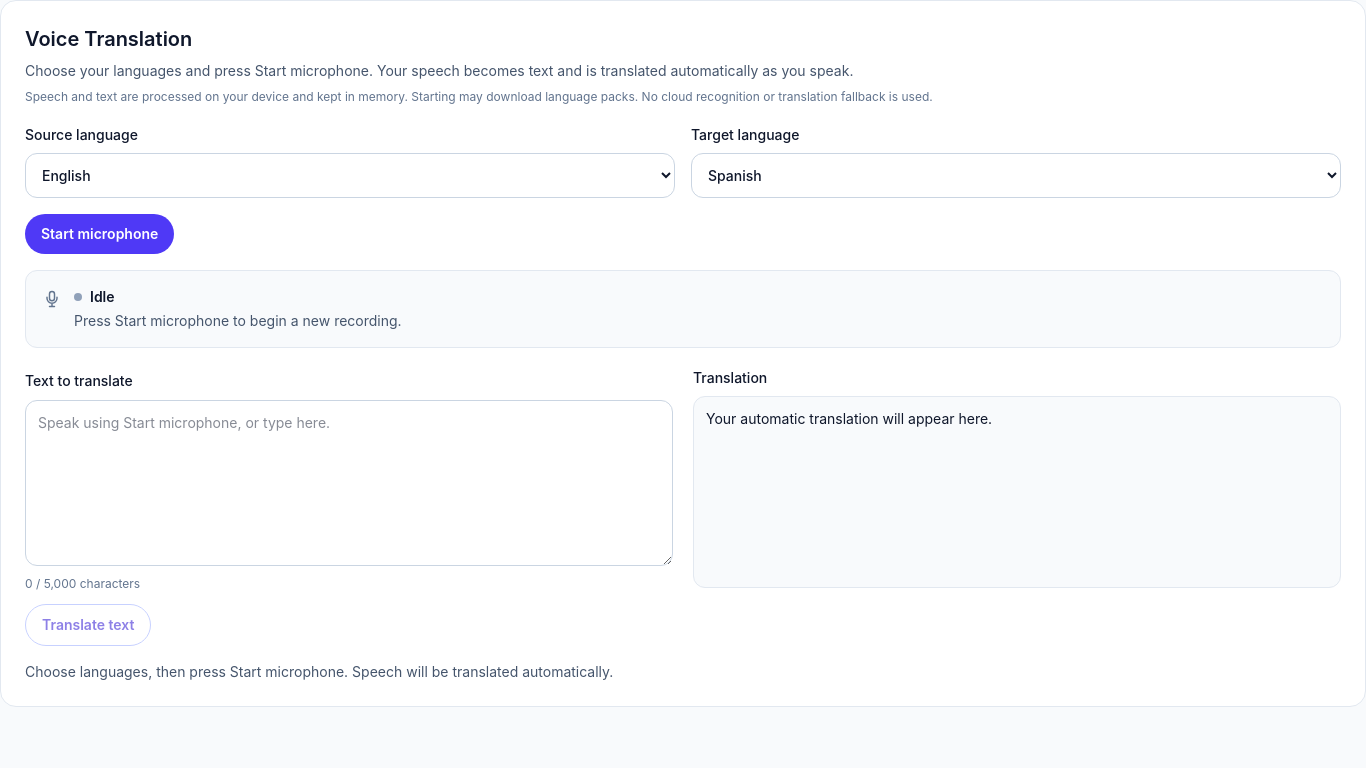
Test: clears old typed text and does not translate it when a recording captures no speech
Later steps or results of the test are not shown.
Type "Existing text" into the text box labelled "Text to translate" at (349, 483), box [25,400,673,566]
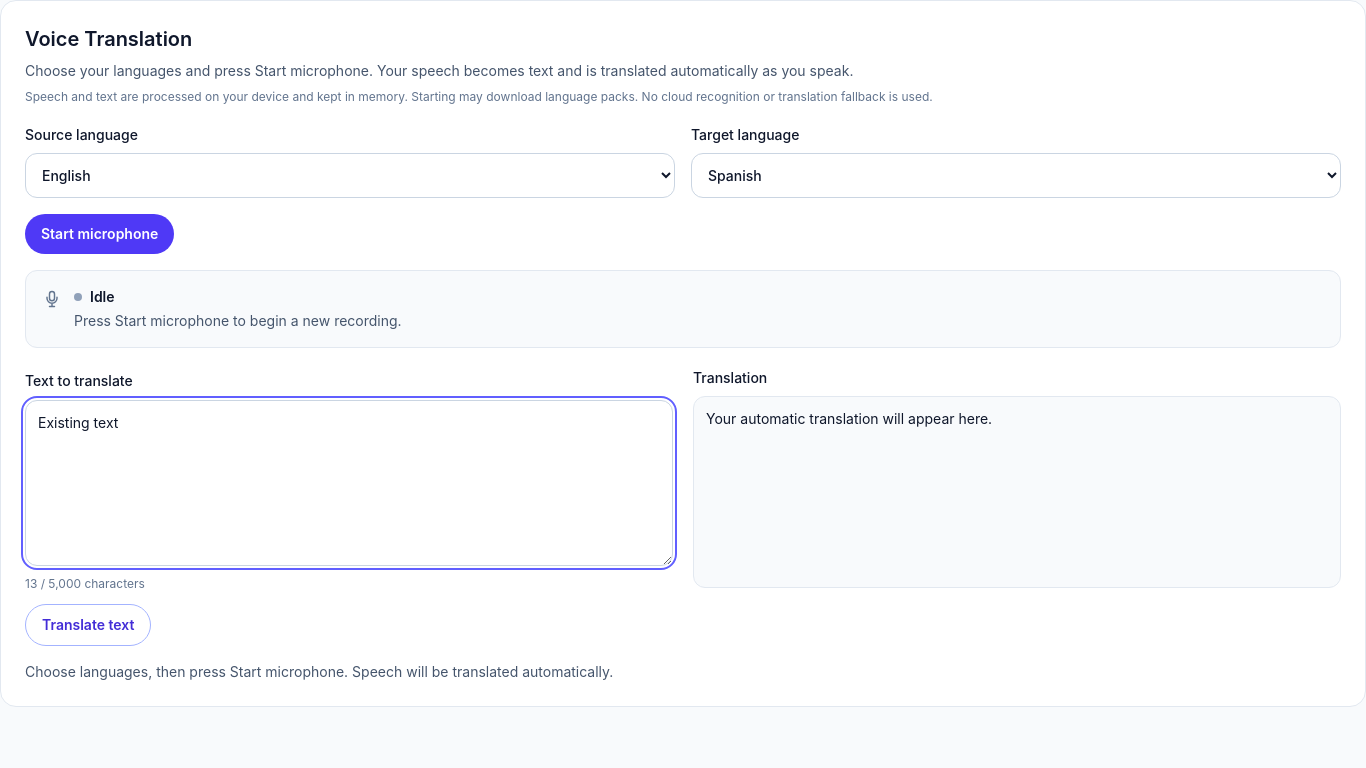
Click the button "Start microphone" at (100, 234), box [25,214,174,254]
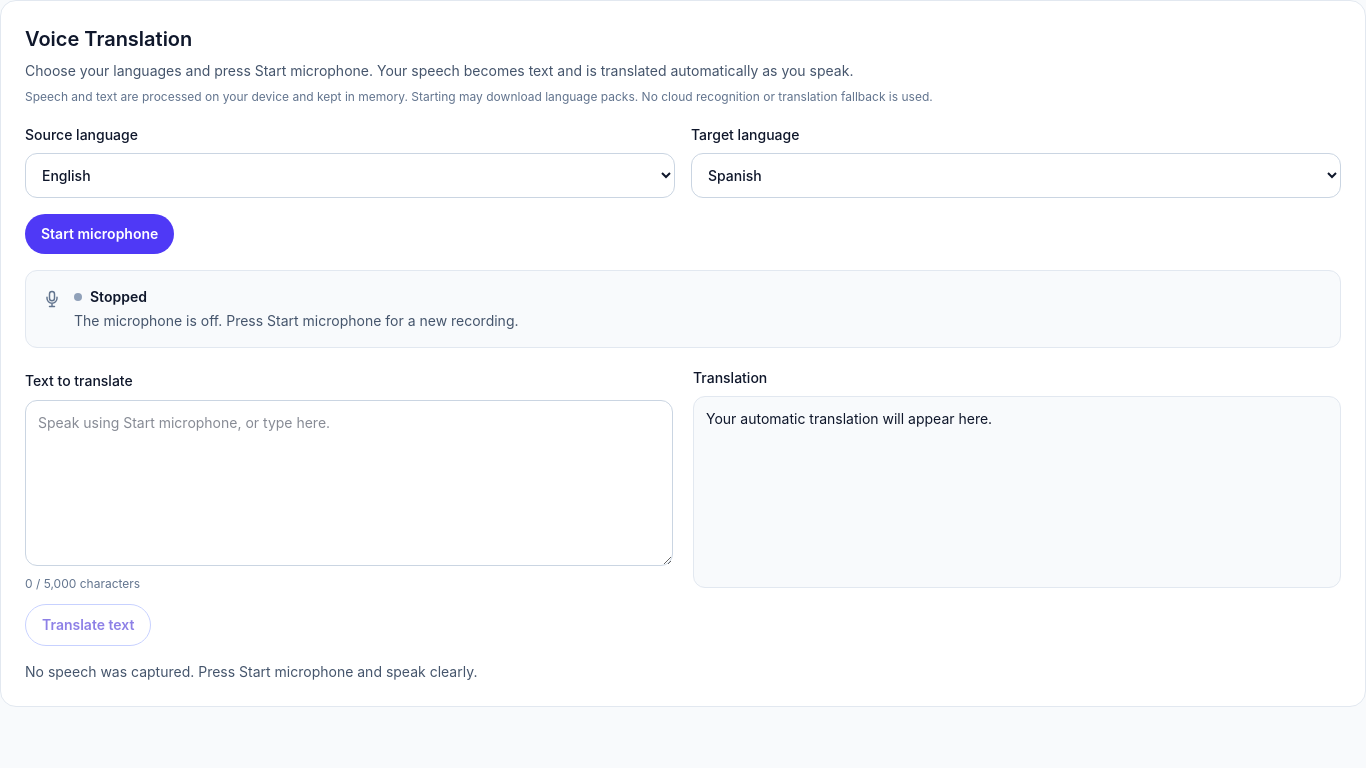
Expected: the message shows "No speech was captured", [25,663,477,680]
Expected: the text box labelled "Text to translate" is empty, [25,400,673,566]
